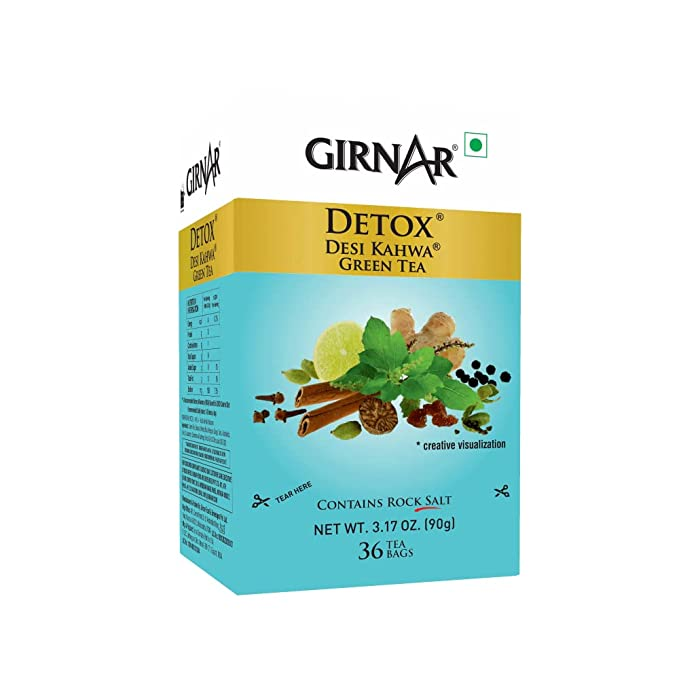veg: (460, 130, 491, 171)
